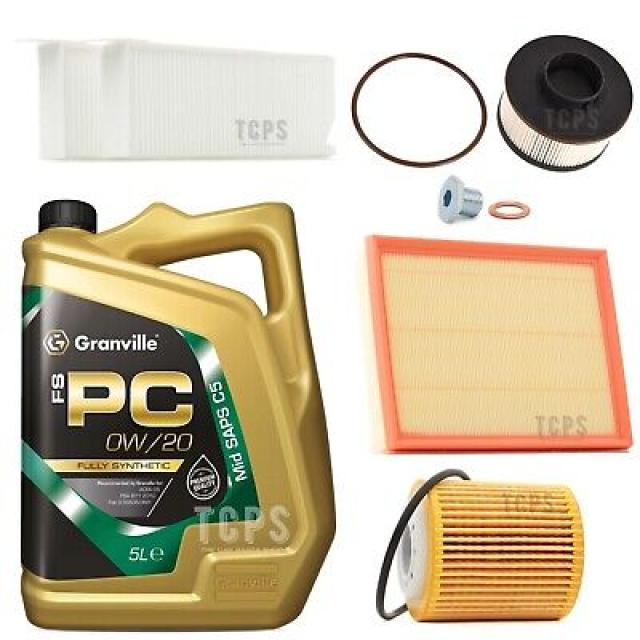air_filter: (363, 227, 637, 458), (24, 34, 345, 166)
motor_oil: (15, 190, 340, 632)
oil_filter: (365, 470, 593, 626), (496, 29, 635, 182)
